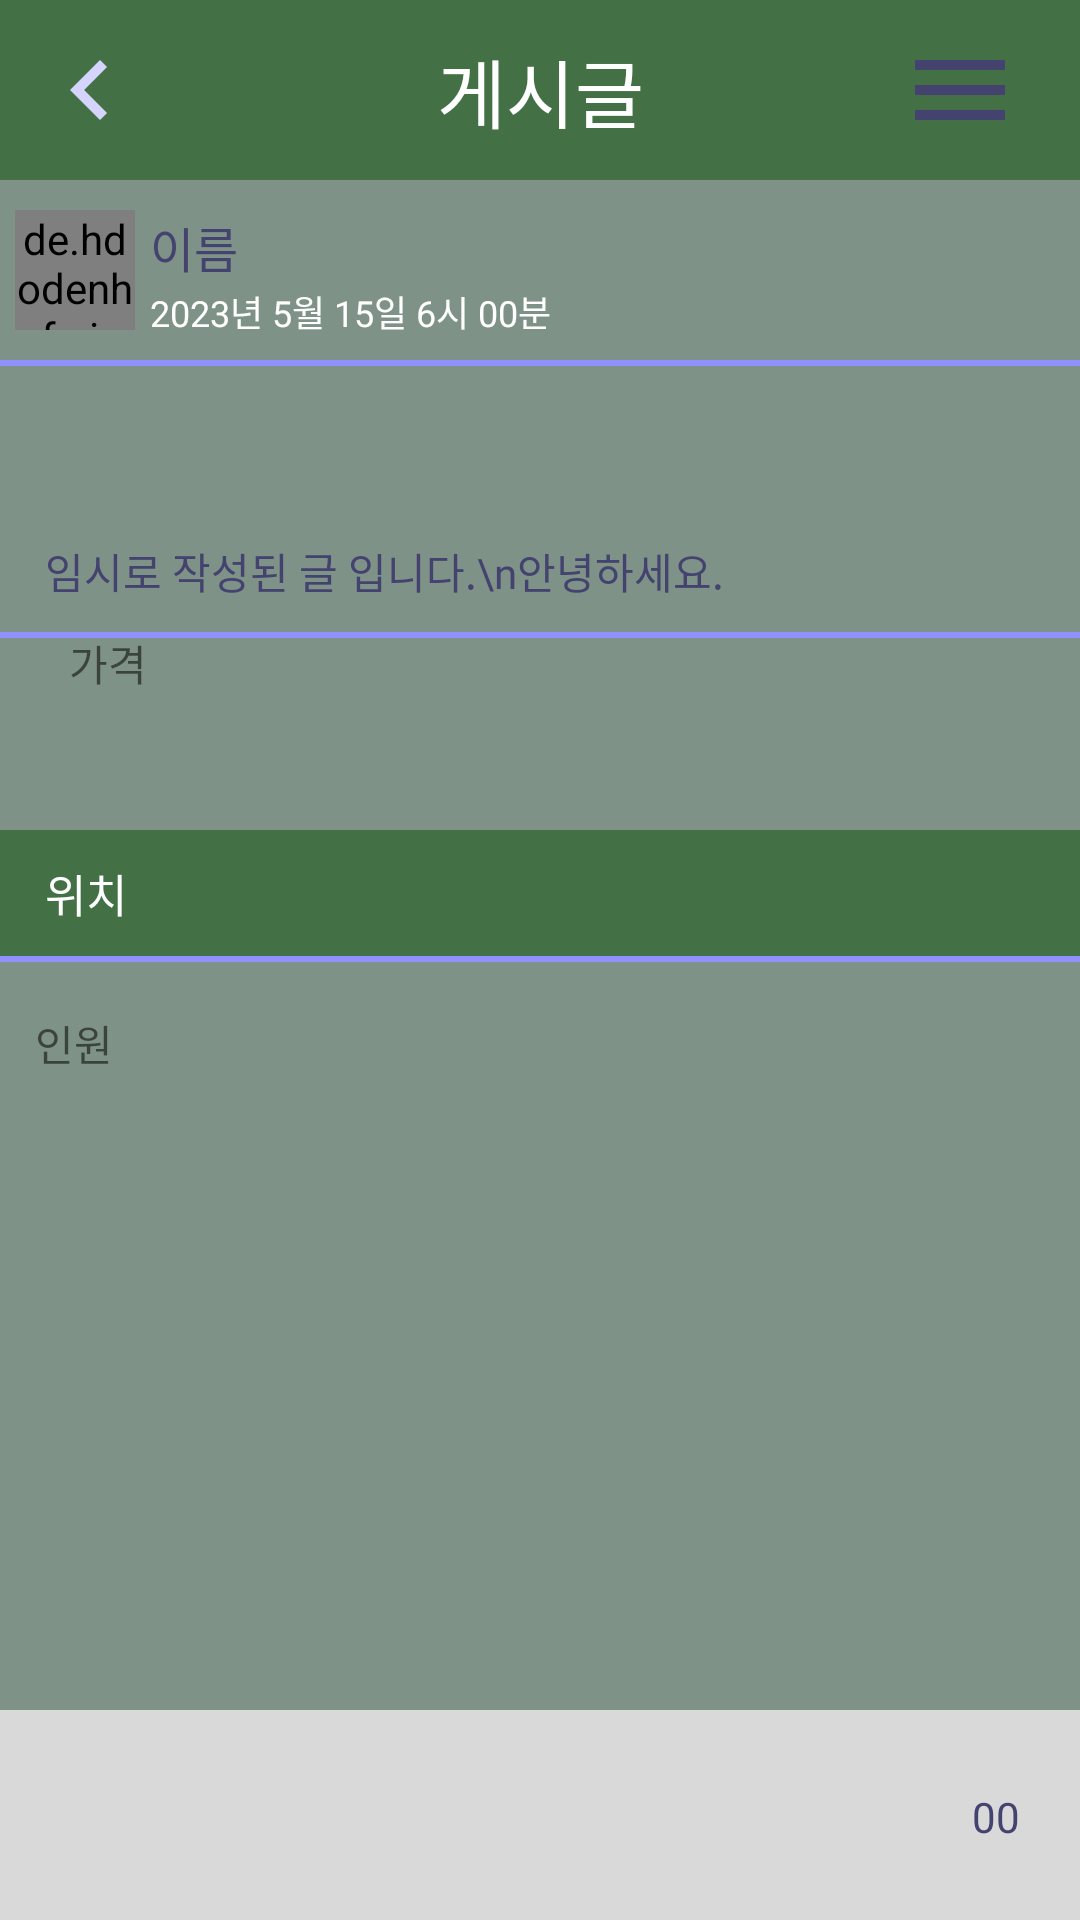

Where to tap for icons on this 1080*1920 app screen, as [x,y]:
chevron left: [88,90]
menu: [960,90]
